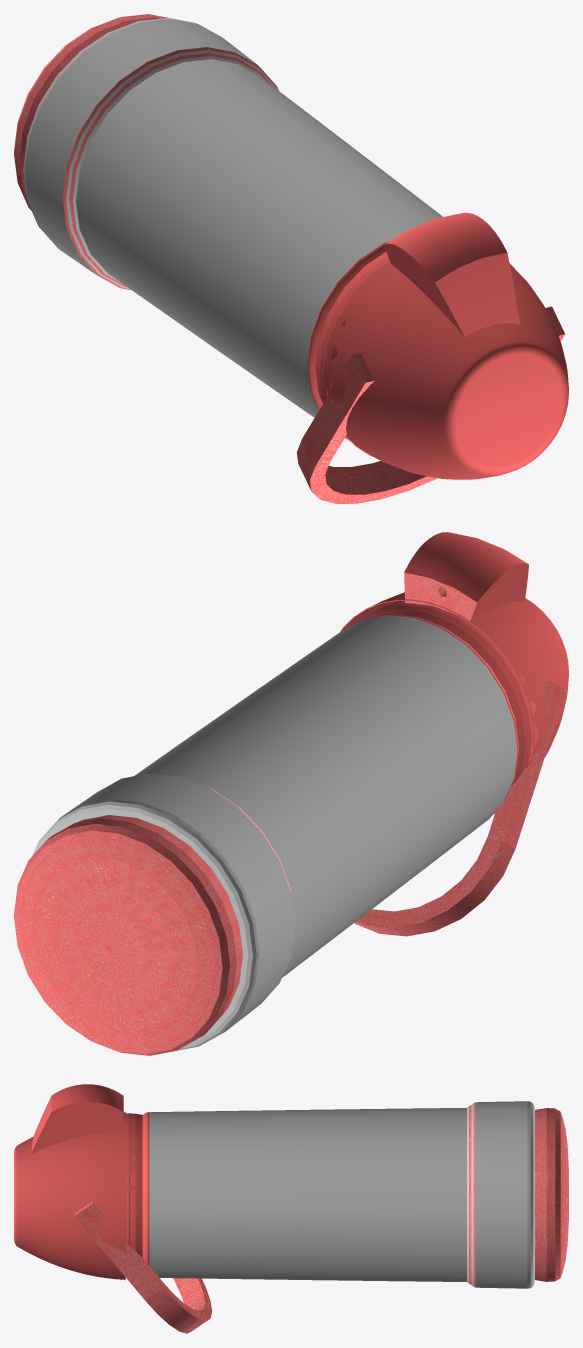
Rendered from model_align.obj.
The picture shows the model from 3 angles, top to bottom: view 1: azimuth 30°, elevation 25°; view 2: azimuth 150°, elevation 25°; view 3: azimuth 270°, elevation 25°; orthographic projection. The views are drawn at different scales.
Visible parts, largest first — view 1: mesh4_mesh4-geometry, mesh6_mesh6-geometry, mesh3_mesh3-geometry, mesh1_mesh1-geometry; view 2: mesh4_mesh4-geometry, mesh1_mesh1-geometry, mesh3_mesh3-geometry, mesh6_mesh6-geometry; view 3: mesh4_mesh4-geometry, mesh6_mesh6-geometry, mesh1_mesh1-geometry, mesh3_mesh3-geometry, mesh7_mesh7-geometry.
Part boxes in pixels (x1=…): mesh4_mesh4-geometry: x1=14, y1=14, x2=442, y2=440; mesh6_mesh6-geometry: x1=325, y1=261, x2=568, y2=479; mesh3_mesh3-geometry: x1=384, y1=212, x2=519, y2=337; mesh1_mesh1-geometry: x1=296, y1=306, x2=564, y2=503; mesh4_mesh4-geometry: x1=14, y1=601, x2=538, y2=1055; mesh1_mesh1-geometry: x1=354, y1=680, x2=565, y2=936; mesh3_mesh3-geometry: x1=404, y1=532, x2=528, y2=621; mesh6_mesh6-geometry: x1=340, y1=592, x2=568, y2=814; mesh4_mesh4-geometry: x1=125, y1=1101, x2=568, y2=1288; mesh6_mesh6-geometry: x1=14, y1=1111, x2=125, y2=1280; mesh1_mesh1-geometry: x1=74, y1=1201, x2=212, y2=1333; mesh3_mesh3-geometry: x1=31, y1=1084, x2=123, y2=1153; mesh7_mesh7-geometry: x1=126, y1=1156, x2=135, y2=1251.
Size of the model in its own units: 0.0502 by 0.0683 by 0.148.
